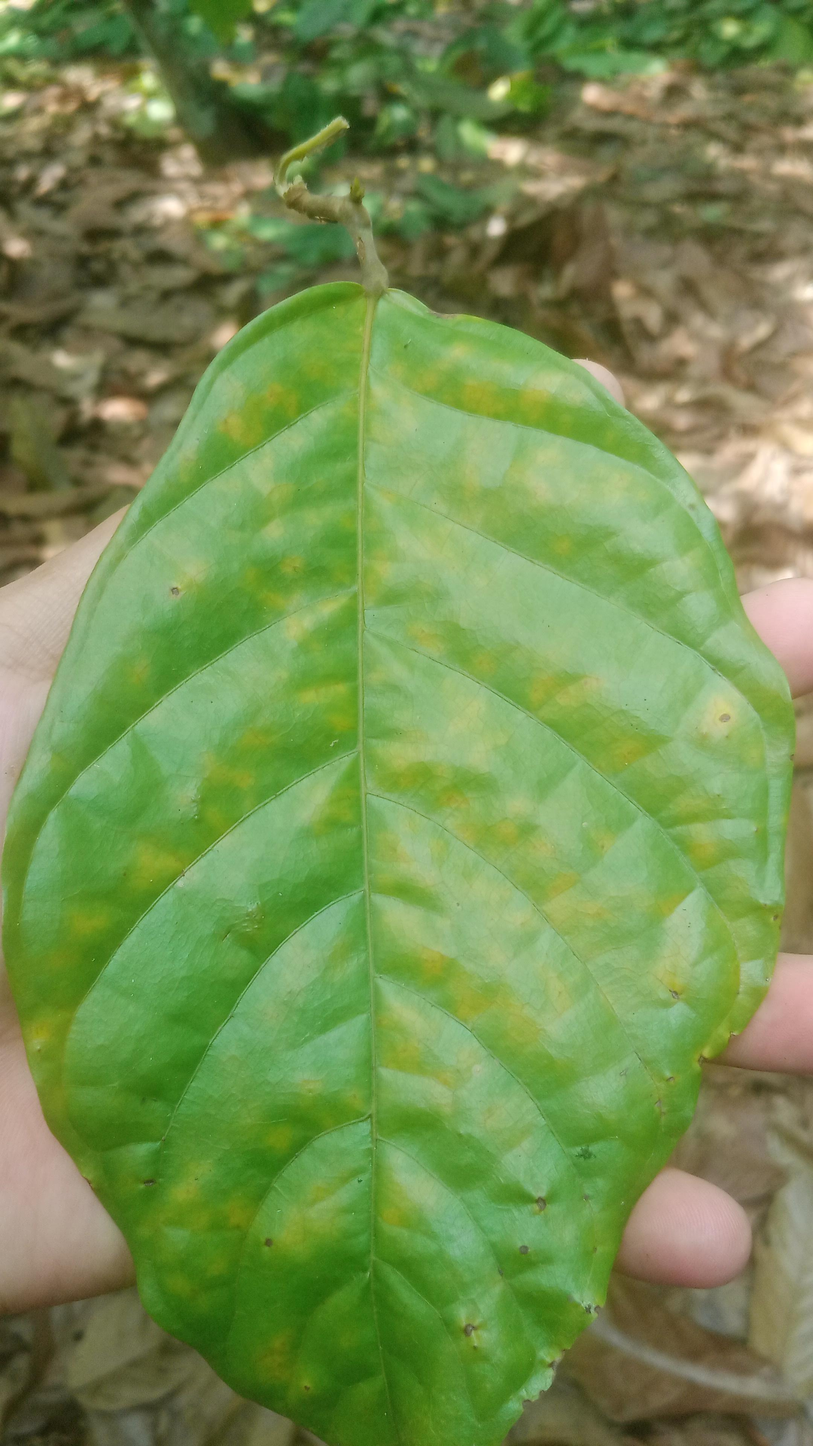deficiencia_potasio: (0, 279, 792, 1446)
